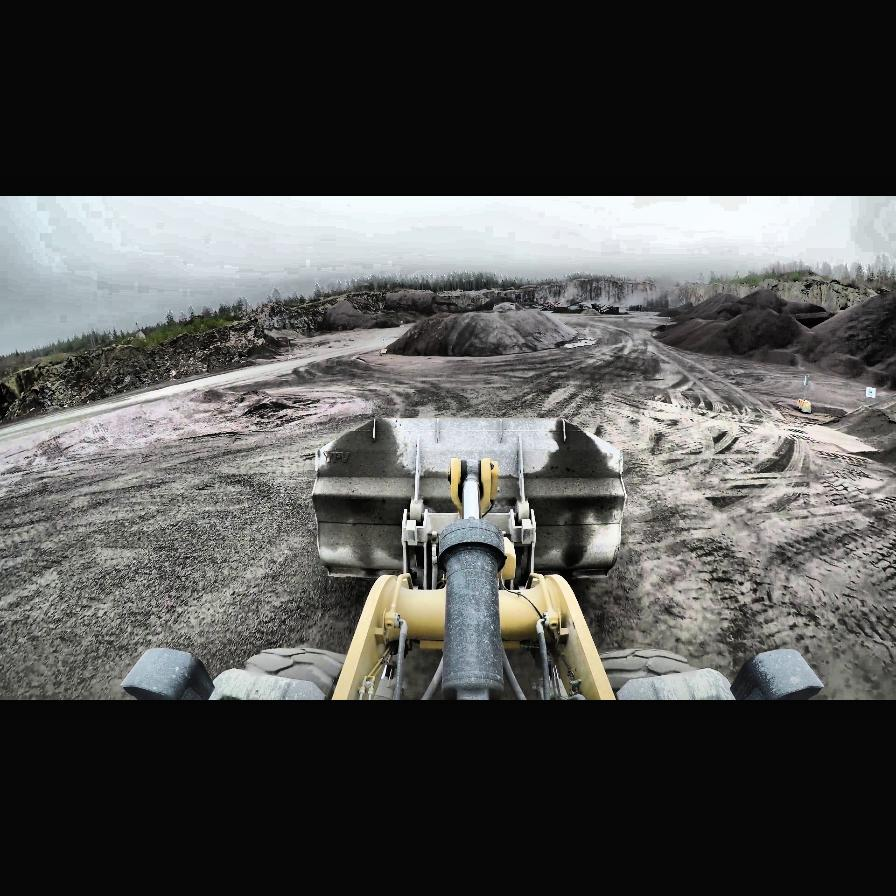anchor: (448, 457, 496, 519)
pile of gravel: (652, 278, 896, 390), (382, 311, 576, 359), (668, 287, 830, 325), (318, 291, 428, 331), (658, 314, 754, 354), (824, 405, 896, 449), (651, 302, 685, 318), (654, 324, 676, 332)
